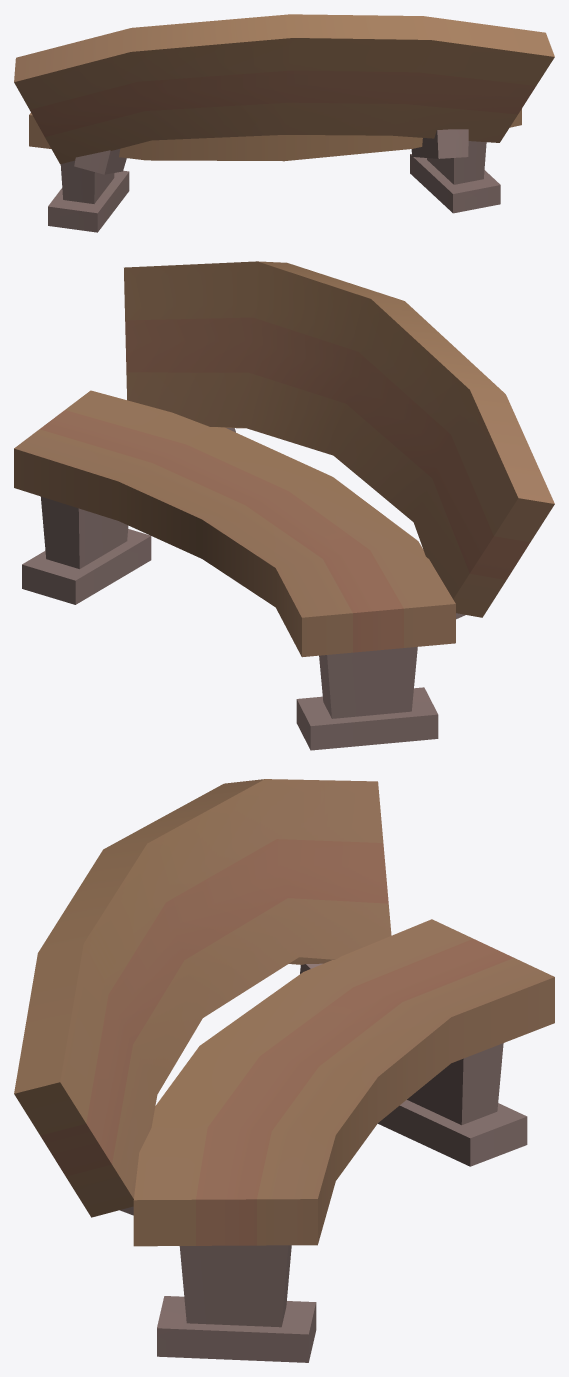
File: Bench.glb
3 renders of one model, top to bottom at view 1: azimuth 30°, elevation 25°; view 2: azimuth 150°, elevation 25°; view 3: azimuth 270°, elevation 25°, orthographic. The views are drawn at different scales.
Visible parts, largest first — view 1: ct_town_bench; view 2: ct_town_bench; view 3: ct_town_bench.
Part boxes in pixels (x1,y1,x2,y2): ct_town_bench: [14, 14, 554, 232]; ct_town_bench: [14, 261, 554, 750]; ct_town_bench: [14, 779, 554, 1362].
Size of the model in its own units: 1.77 by 0.9428 by 1.29.
Materials: 1 (1 with a texture image).
